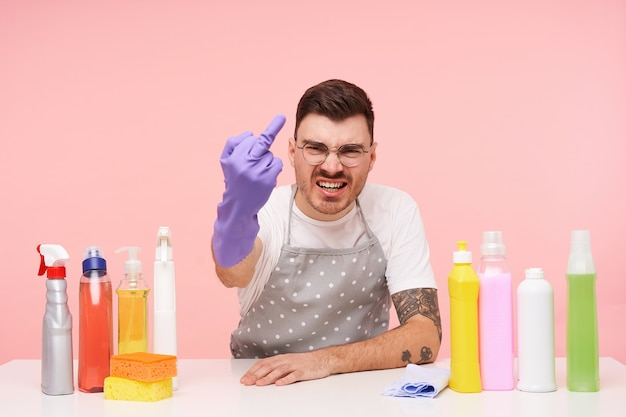insulting_gesture: (215, 111, 288, 210)
